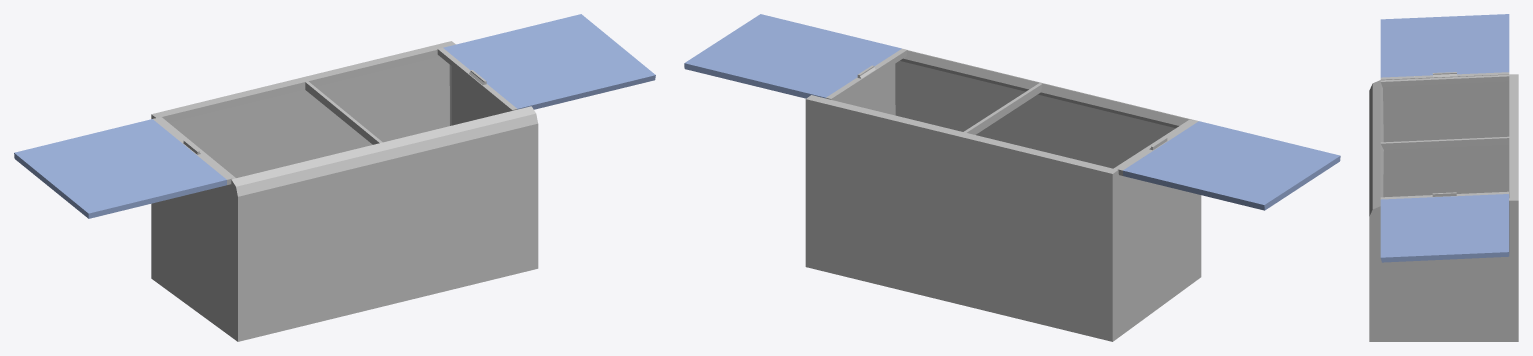
Rendered from SM_IceCremeFridge_01_A.gltf.
3 renders of one model, left to right at view 1: azimuth 30°, elevation 25°; view 2: azimuth 150°, elevation 25°; view 3: azimuth 270°, elevation 25°, orthographic. The views are drawn at different scales.
Visible parts, largest first — view 1: IceCremeFridge_01_A, IceCremeFridgeDoor_01_A, IceCremeFridgeDoor_01_B; view 2: IceCremeFridge_01_A, IceCremeFridgeDoor_01_A, IceCremeFridgeDoor_01_B; view 3: IceCremeFridge_01_A, IceCremeFridgeDoor_01_B, IceCremeFridgeDoor_01_A.
Boxes of the visible parts, left/top/right/bottom form: IceCremeFridge_01_A: left=151, top=41, right=538, bottom=341; IceCremeFridgeDoor_01_A: left=14, top=118, right=231, bottom=218; IceCremeFridgeDoor_01_B: left=437, top=14, right=655, bottom=111; IceCremeFridge_01_A: left=805, top=50, right=1201, bottom=341; IceCremeFridgeDoor_01_A: left=1117, top=120, right=1340, bottom=210; IceCremeFridgeDoor_01_B: left=684, top=14, right=907, bottom=100; IceCremeFridge_01_A: left=1369, top=74, right=1518, bottom=341; IceCremeFridgeDoor_01_B: left=1380, top=191, right=1509, bottom=262; IceCremeFridgeDoor_01_A: left=1380, top=14, right=1509, bottom=80.
Bounding box in the file's own units: 3.78 × 1.05 × 1.
